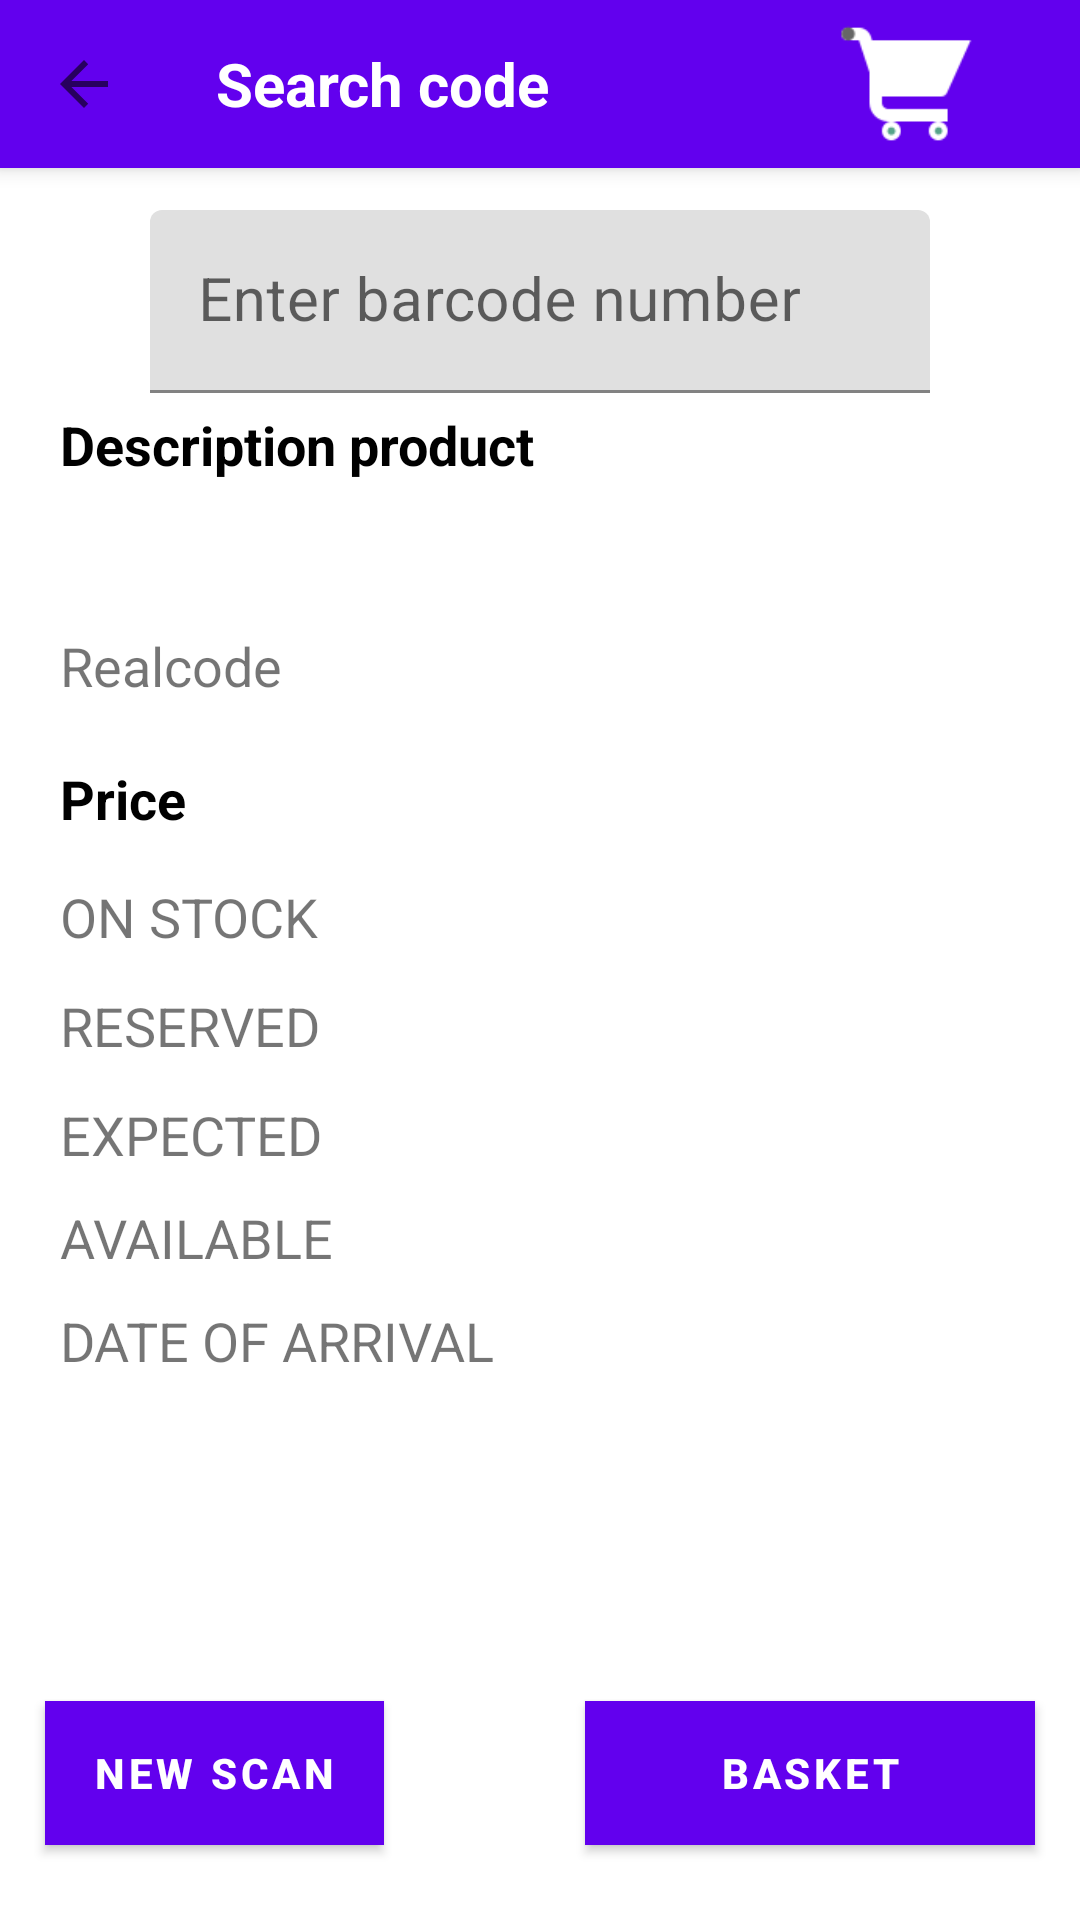

Icons on this 1080*1920 Android screen, each with the point to tap as (x,y):
cart: (906,83)
